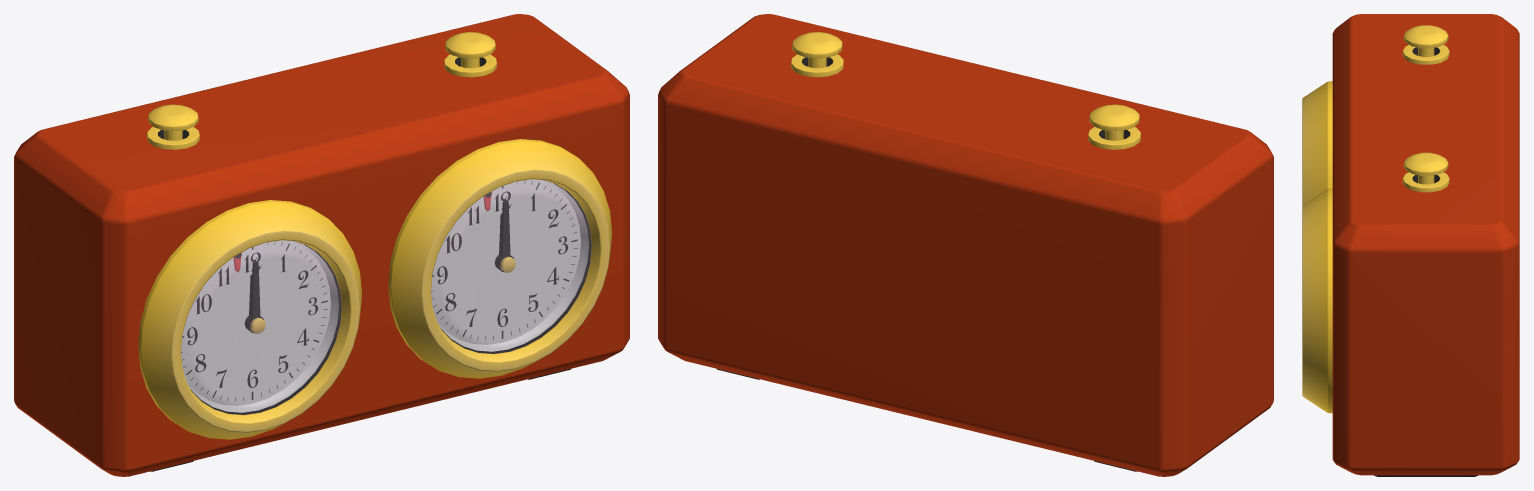
Rendered from Chess_Clock_01.glb.
3 renders of one model, left to right at view 1: azimuth 30°, elevation 25°; view 2: azimuth 150°, elevation 25°; view 3: azimuth 270°, elevation 25°, orthographic. The views are drawn at different scales.
Parts seen in each view (by area): view 1: Chess_Clock_01, Circle.004, Chess_Clock_Button_02; view 2: Chess_Clock_01, Circle.004, Chess_Clock_Button_02; view 3: Chess_Clock_01, Chess_Clock_Button_02, Circle.004.
Boxes of the visible parts, x1=… form: Chess_Clock_01: x1=14, y1=14, x2=629, y2=476; Circle.004: x1=148, y1=104, x2=198, y2=140; Chess_Clock_Button_02: x1=445, y1=32, x2=495, y2=68; Chess_Clock_01: x1=658, y1=14, x2=1273, y2=476; Circle.004: x1=1089, y1=104, x2=1139, y2=140; Chess_Clock_Button_02: x1=792, y1=32, x2=842, y2=68; Chess_Clock_01: x1=1302, y1=14, x2=1519, y2=476; Chess_Clock_Button_02: x1=1403, y1=152, x2=1448, y2=184; Circle.004: x1=1403, y1=25, x2=1448, y2=56.
Bounding box in the file's own units: 0.1611 × 0.0957 × 0.0652.
Materials: 5 (5 with a texture image).
